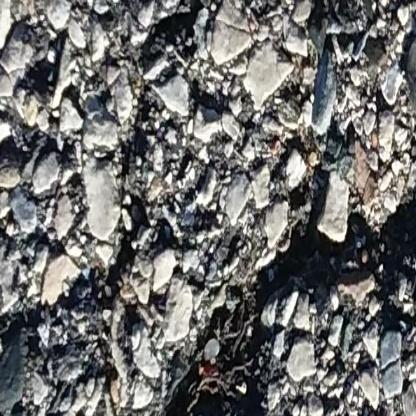Cracks: (0, 0, 220, 378), (147, 141, 416, 416), (183, 78, 261, 141), (396, 14, 416, 87)
